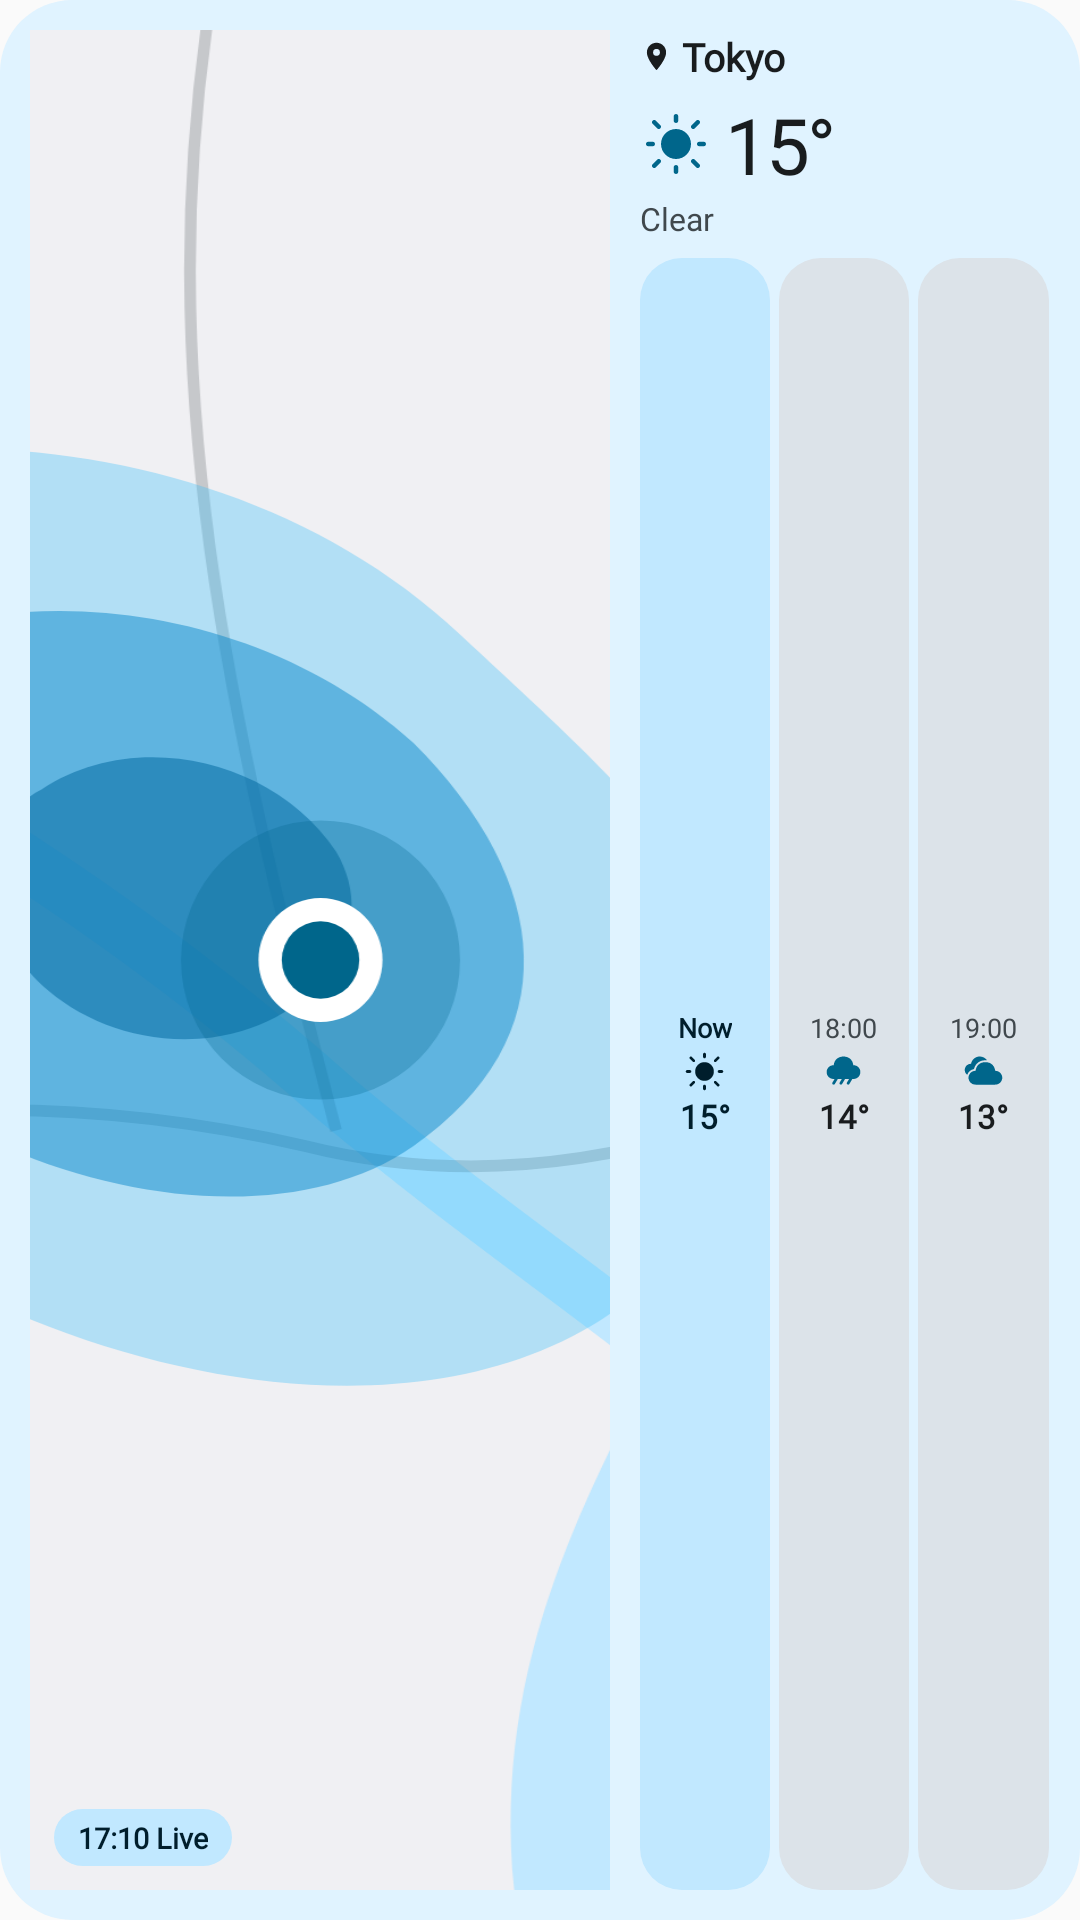

Icons on this 1080 × 1920 Android screen, each with the point to tap as [x,y]:
fluent weather cloudy: [983,1070]
fluent weather rain: [843,1070]
fluent weather sunny: [676,144], [704,1071]
widget location: [656,56]
